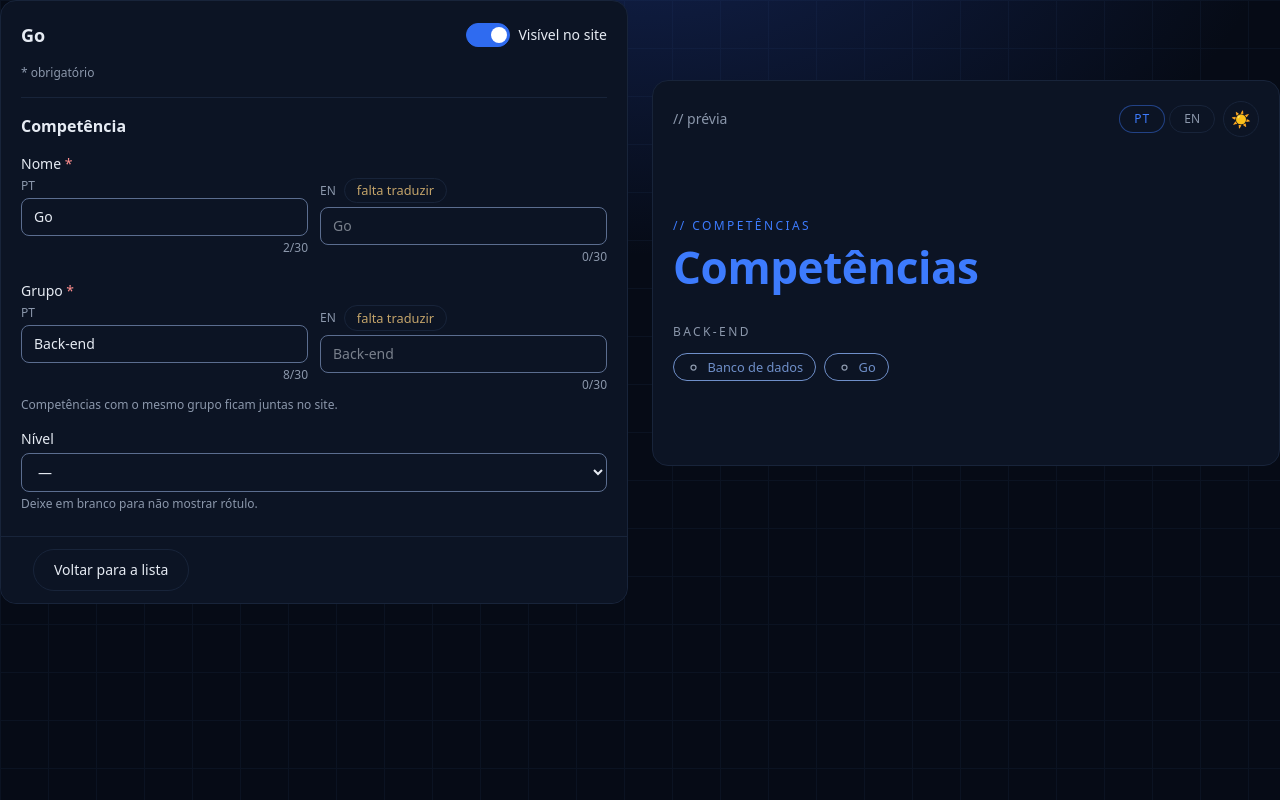
Test: imagem do item › competências do EN aparecem em inglês na prévia
Expected: the list item "Banco de dados" is shown, [673,353,816,381]
Click the button with aria-label "Prévia em EN" at (1192,119), box [1169,105,1215,133]
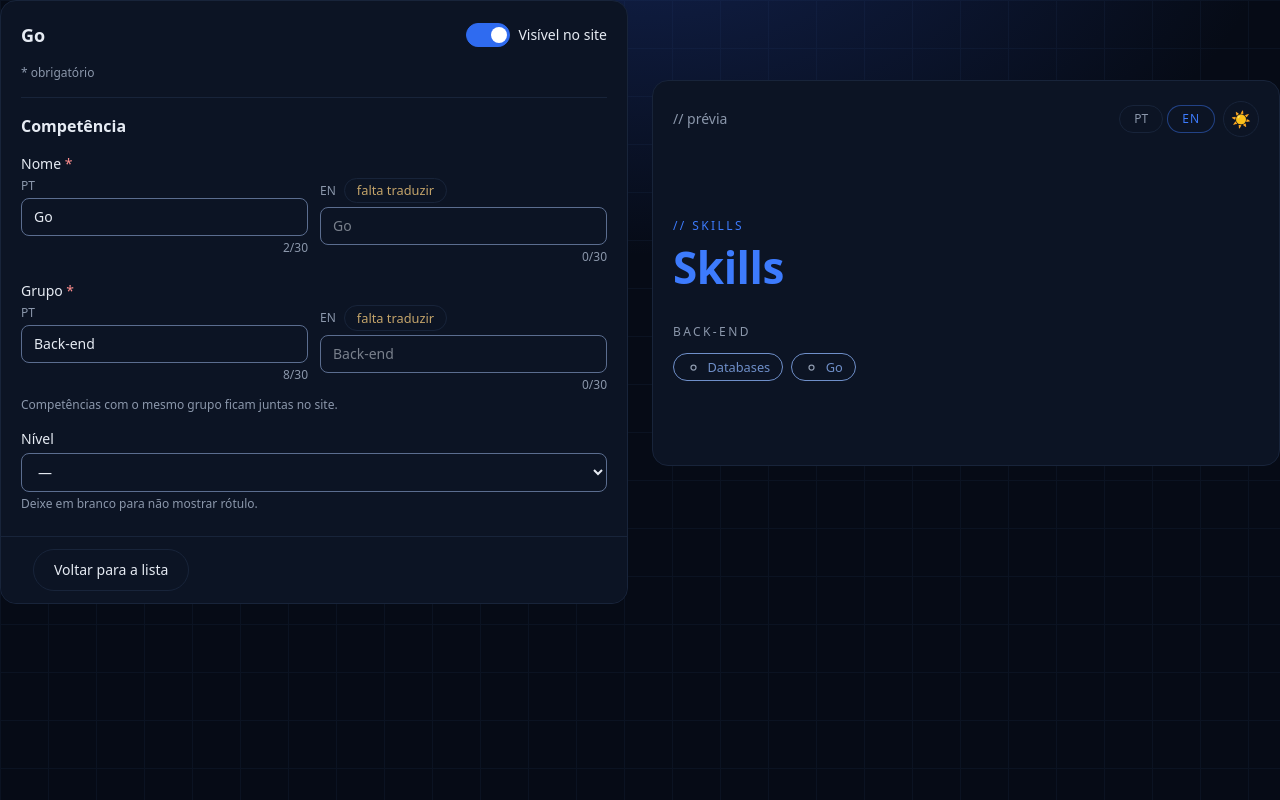
Expected: the list item "Databases" is shown, [673,353,783,381]
Expected: the list item "Banco de dados" is gone
